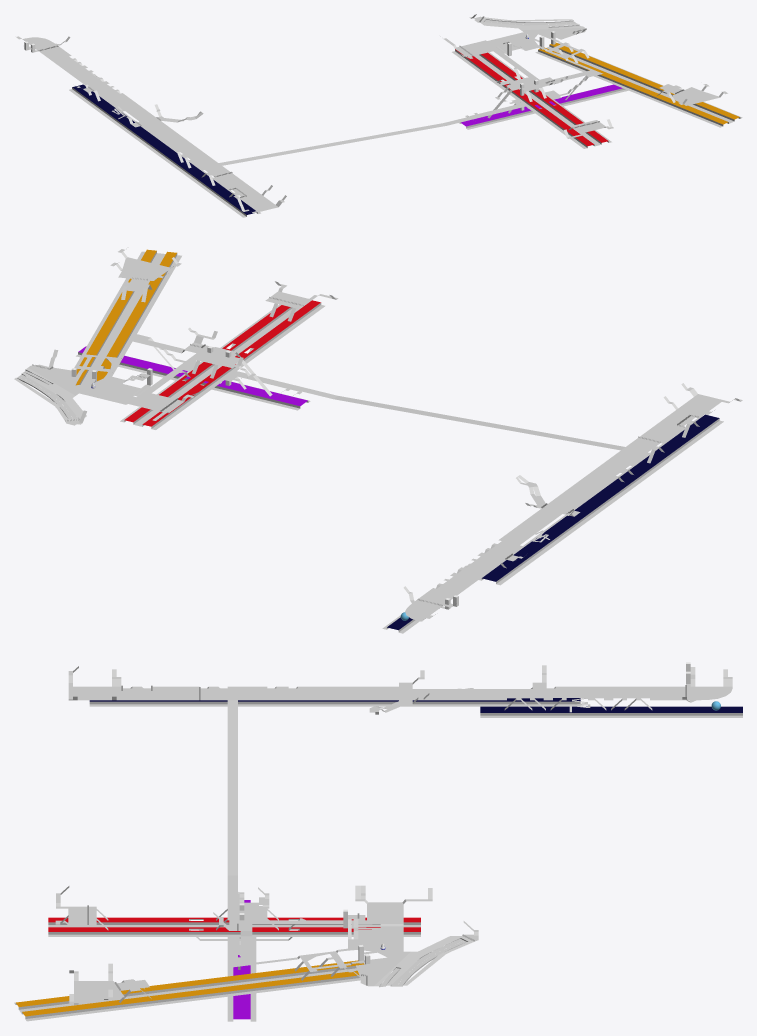
File: station_animation.glb
The picture shows the model from 3 angles, top to bottom: view 1: azimuth 30°, elevation 25°; view 2: azimuth 150°, elevation 25°; view 3: azimuth 270°, elevation 25°; orthographic projection. The views are drawn at different scales.
Visible parts, largest first — view 1: Stations, Platforms, Stairs, Elevators; view 2: Stations, Platforms, Stairs; view 3: Stations, Platforms, Stairs.
Boxes of the visible parts, <box> form: Stations: <box>23,16,742,217</box>; Platforms: <box>72,17,739,214</box>; Stairs: <box>16,14,727,211</box>; Elevators: <box>24,31,555,110</box>; Stations: <box>17,251,729,633</box>; Platforms: <box>14,249,719,630</box>; Stairs: <box>49,249,742,618</box>; Stations: <box>14,674,742,1021</box>; Platforms: <box>16,698,742,1019</box>; Stairs: <box>55,665,732,1004</box>.
Size of what is drawn, in the model's own units: 418 by 28.96 by 387.
Materials: 9 (1 with a texture image).
